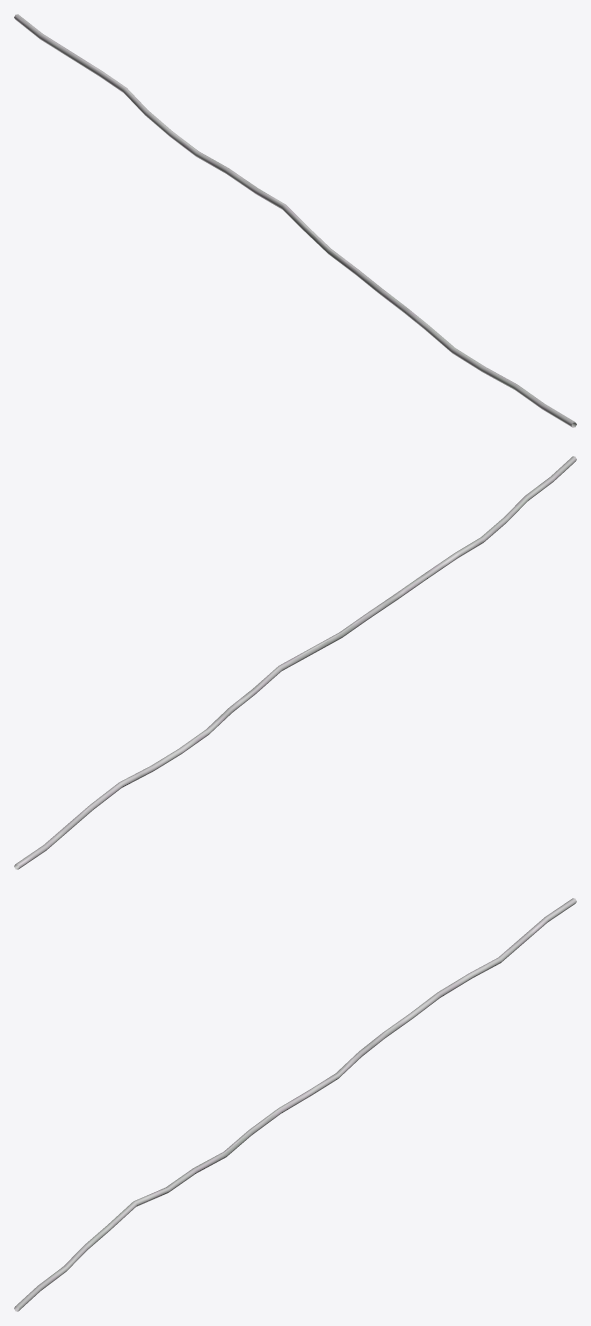
Rendered from cable_long.dae.
3 views of the same model, one above another, from view 1: azimuth 30°, elevation 25°; view 2: azimuth 150°, elevation 25°; view 3: azimuth 330°, elevation 25° (orthographic).
Parts seen in each view (by area): view 1: Mesh; view 2: Mesh; view 3: Mesh.
Boxes of the visible parts, <box> form: Mesh: <box>14,14,576,427</box>; Mesh: <box>14,456,576,869</box>; Mesh: <box>14,898,576,1311</box>.
Bounding box in the file's own units: 0.0779 × 0.033 × 3.
